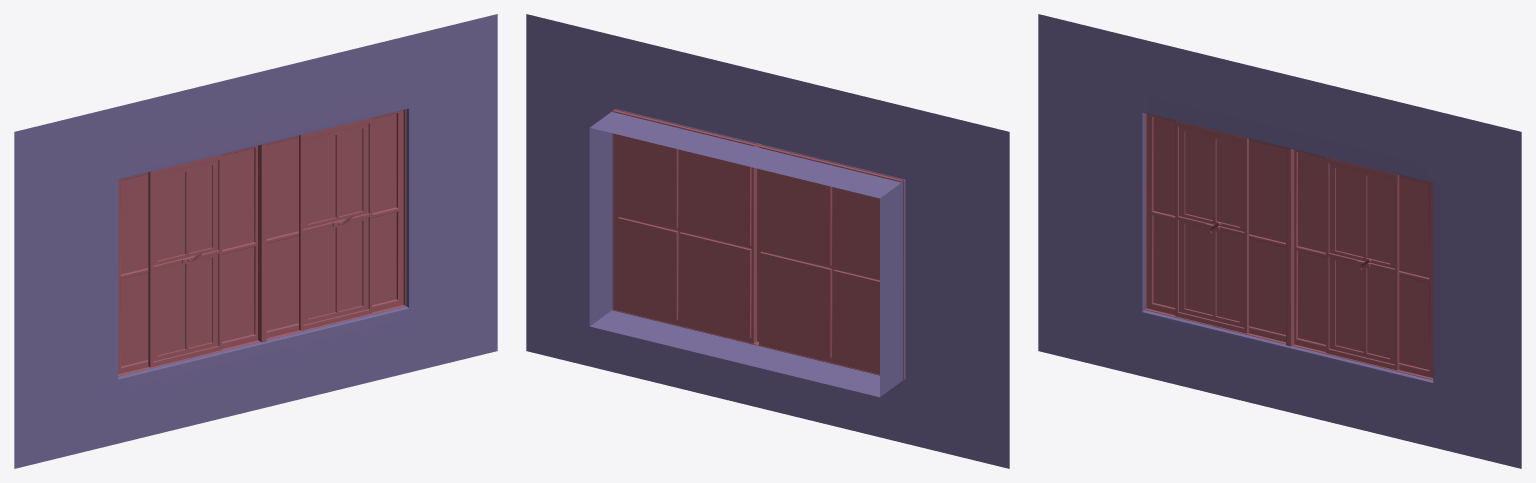
File: environmentproject_wallbrick_window_b.fbx
3 views of the same model, side by side, from view 1: azimuth 30°, elevation 25°; view 2: azimuth 150°, elevation 25°; view 3: azimuth 330°, elevation 25° (orthographic).
Visible parts, largest first — view 1: wallwindow_b_GEO_01; view 2: wallwindow_b_GEO_01; view 3: wallwindow_b_GEO_01.
Boxes of the visible parts, box(x1,y1,x2,y2) form: wallwindow_b_GEO_01: box(14, 14, 497, 468); wallwindow_b_GEO_01: box(526, 14, 1009, 468); wallwindow_b_GEO_01: box(1038, 14, 1521, 468).
Bounding box in the file's own units: 600 × 400 × 62.9.
